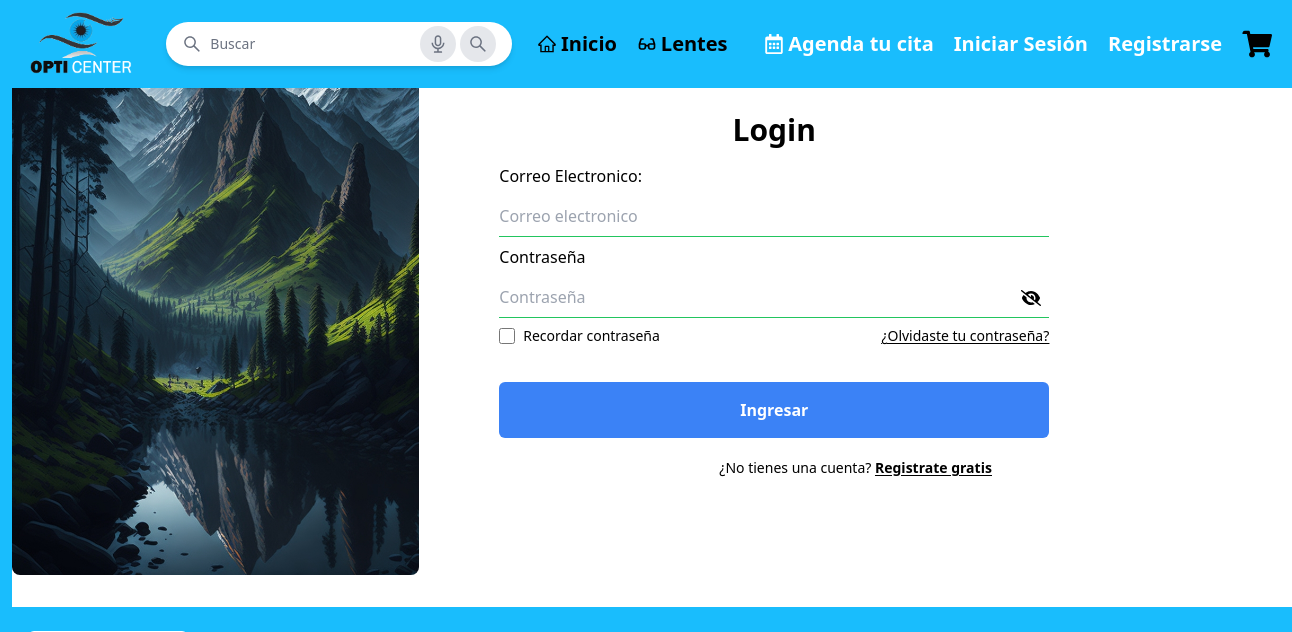
Test: Validación de Campos › Mostrar error cuando la contraseña tiene menos caracteres que el mínimo requerido
The width and height of the screenshot is (1292, 632).
Type "test@example.com" into the field with placeholder "Correo electronico" at (774, 217), box x1=499 y1=196 x2=1049 y2=237
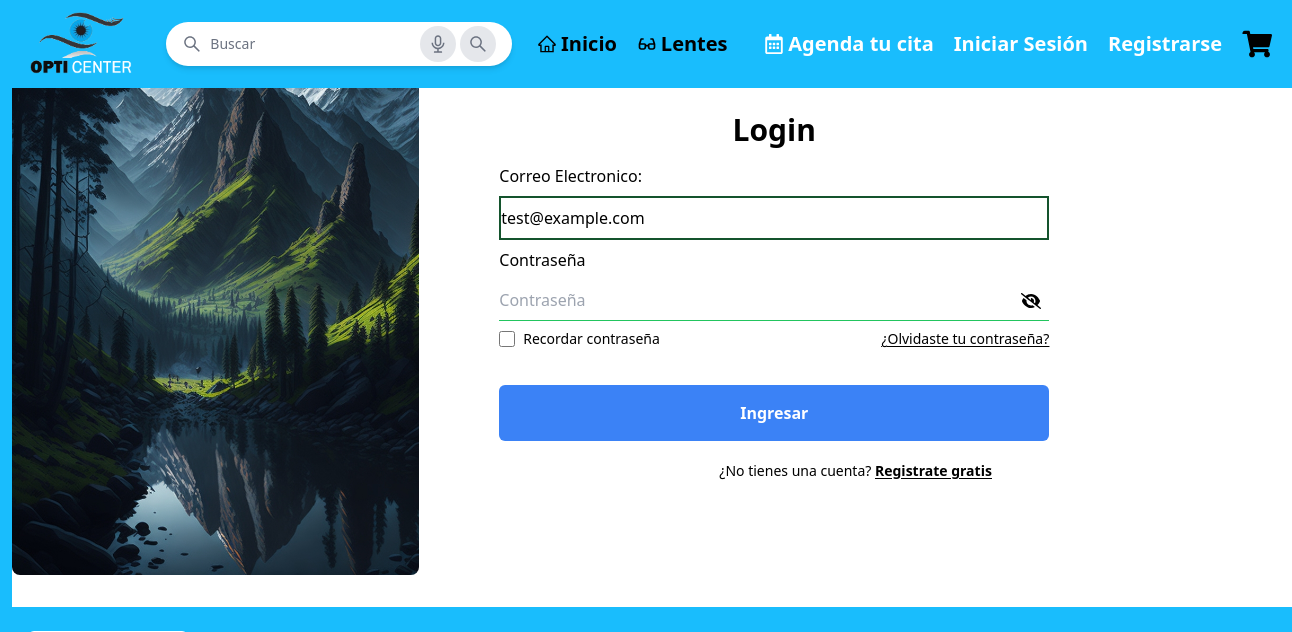
Type "123" into the password field with placeholder "Contraseña" at (774, 301), box x1=499 y1=280 x2=1049 y2=321
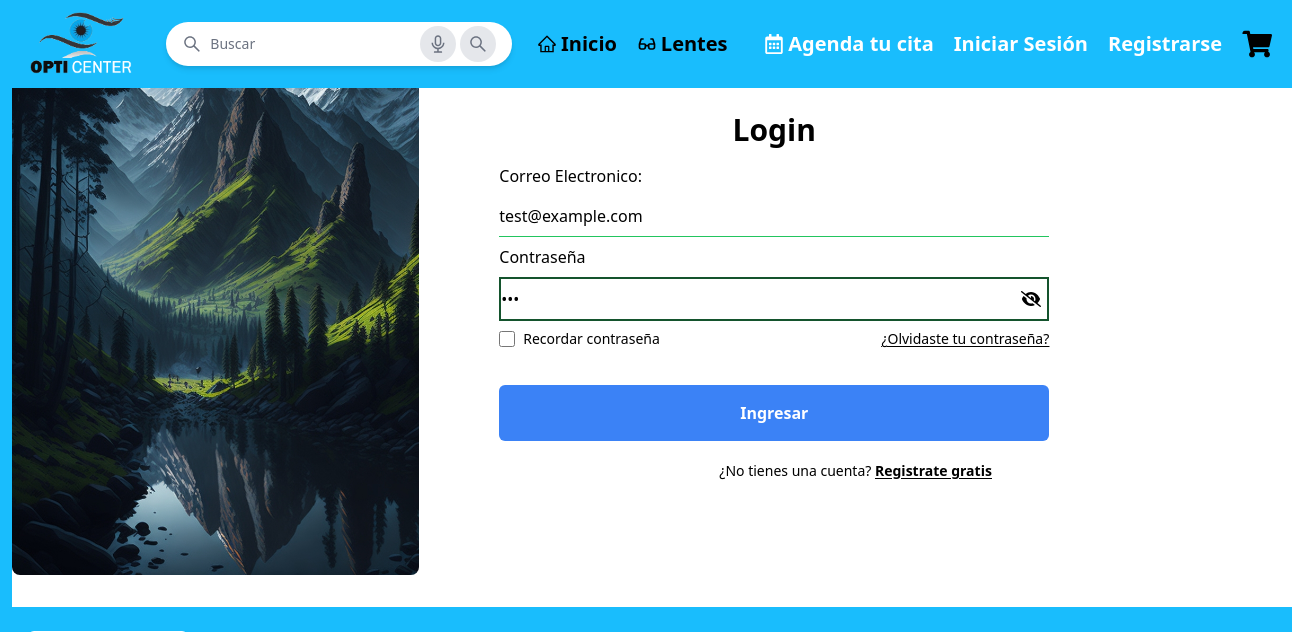
Click the submit button at (774, 413), box x1=499 y1=385 x2=1049 y2=441
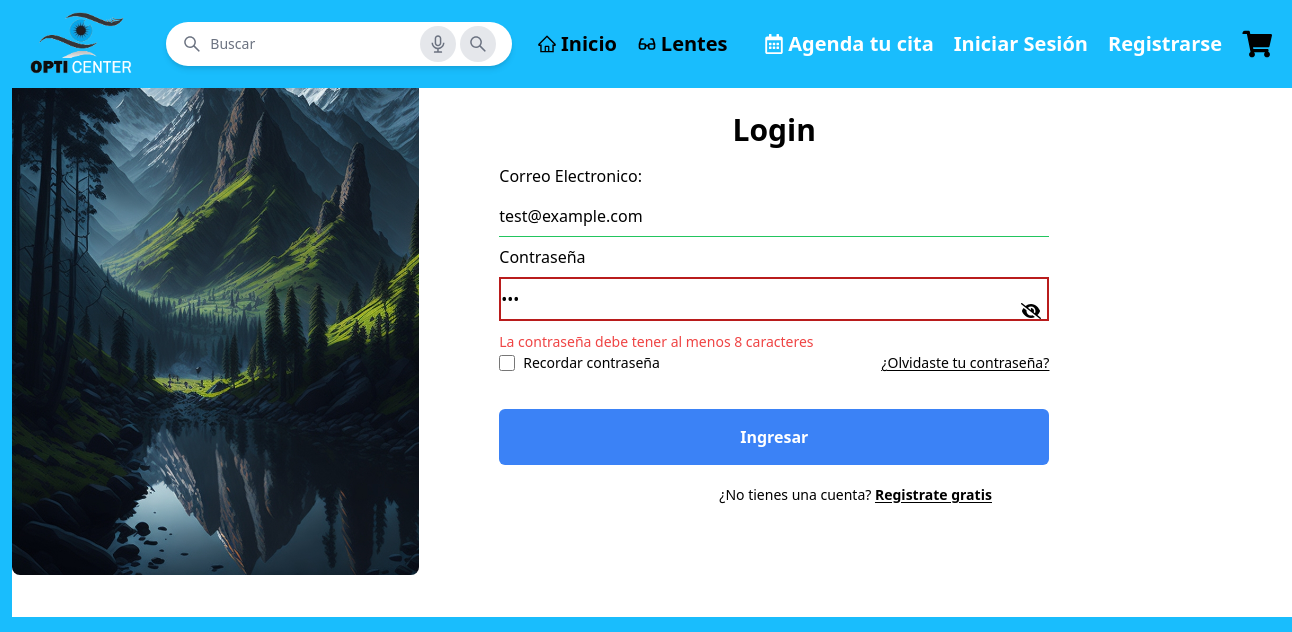
Now the text "La contraseña debe tener al menos 8 caracteres" is shown, box x1=499 y1=332 x2=814 y2=351
